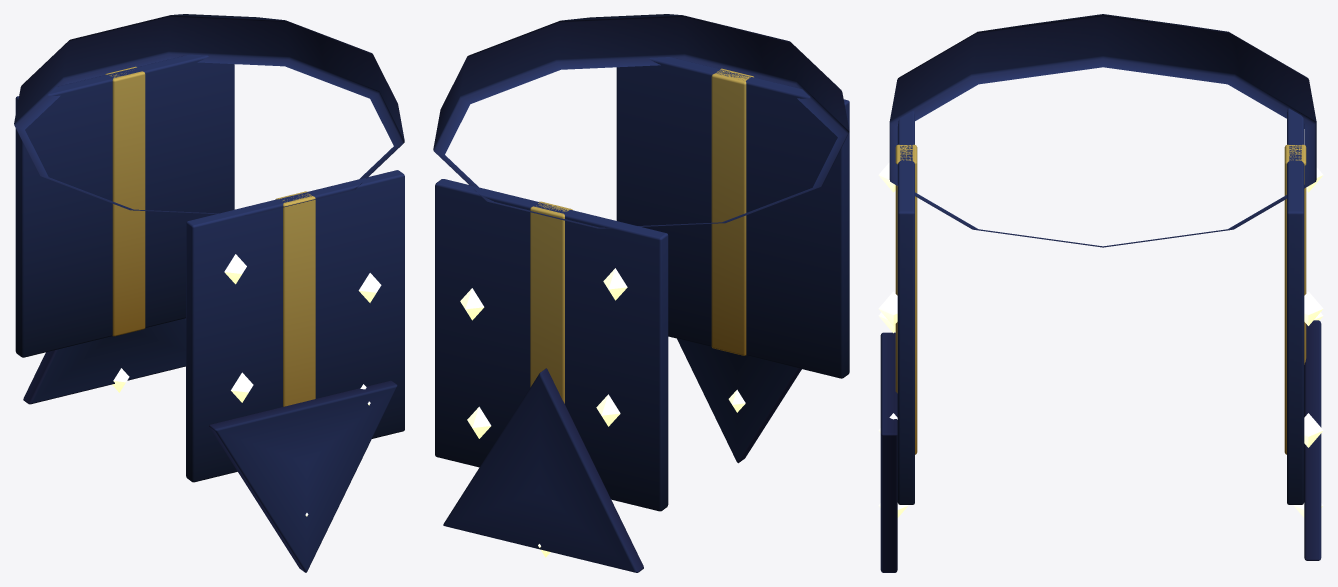
Rendered from lg_starfall_chasuble.glb.
3 renders of one model, left to right at view 1: azimuth 30°, elevation 25°; view 2: azimuth 150°, elevation 25°; view 3: azimuth 270°, elevation 25°, orthographic. The views are drawn at different scales.
Parts seen in each view (by area): view 1: lg_starfall_chasuble, lg_starfall_chasuble_glow; view 2: lg_starfall_chasuble, lg_starfall_chasuble_glow; view 3: lg_starfall_chasuble, lg_starfall_chasuble_glow.
Boxes of the visible parts, x1,y1,x2,y2 form: lg_starfall_chasuble: (14, 14, 404, 572); lg_starfall_chasuble_glow: (112, 254, 381, 516); lg_starfall_chasuble: (433, 14, 849, 572); lg_starfall_chasuble_glow: (460, 268, 745, 557); lg_starfall_chasuble: (880, 14, 1321, 572); lg_starfall_chasuble_glow: (878, 162, 1323, 517).
Size of the model in its own units: 2.08 by 2.56 by 2.06.
